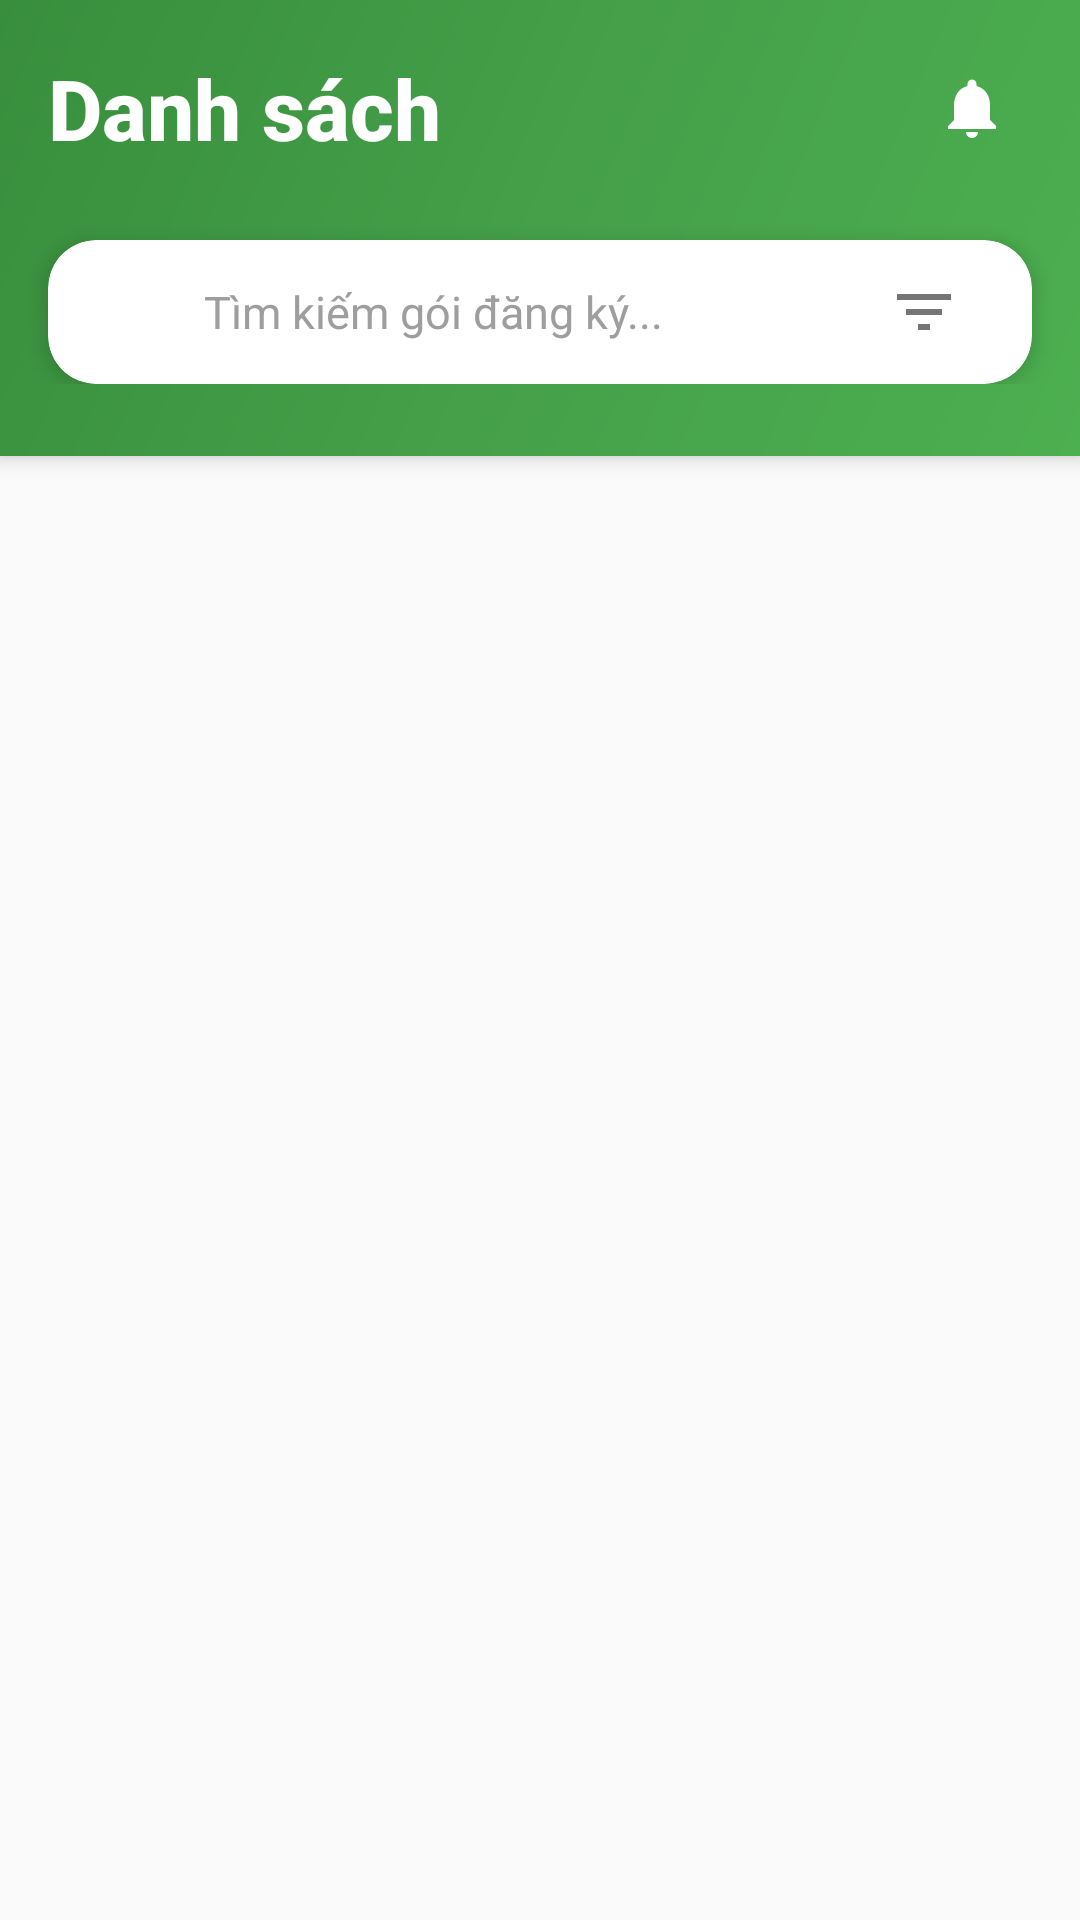

Where icons sit on this 1080×1920 app screen, as (x1, y1, x2, y2):
filter: (897, 294, 951, 330)
notifications: (948, 79, 996, 138)
